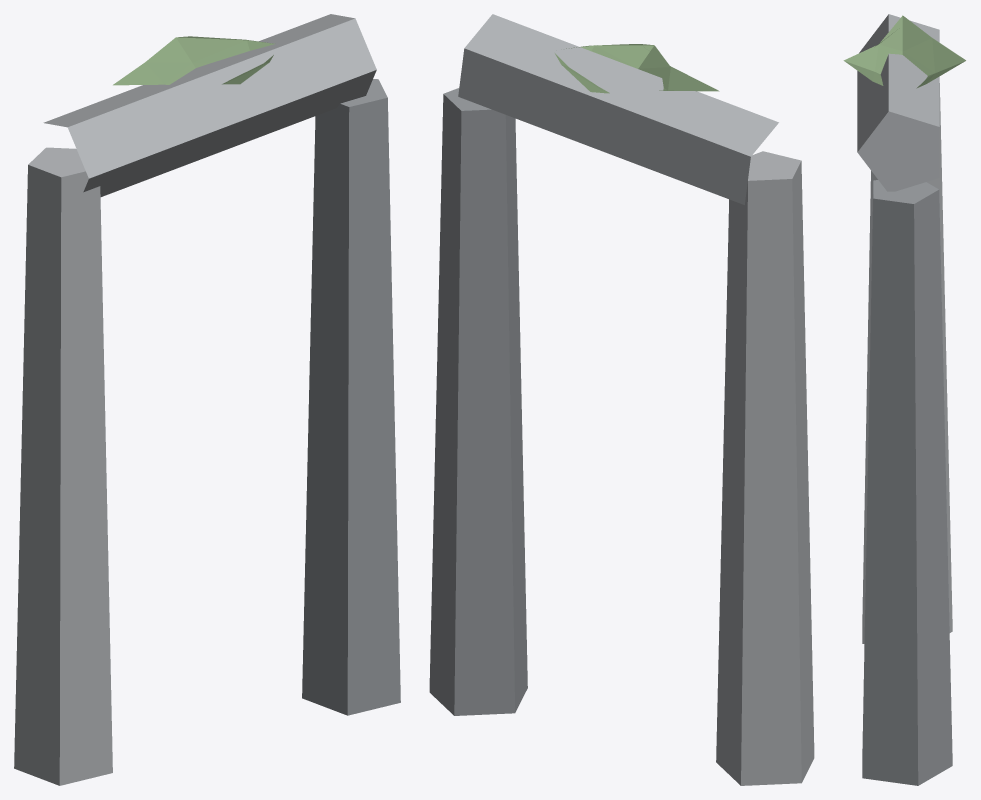
Rendered from arch_rock_v15.glb.
The picture shows the model from 3 angles, left to right: view 1: azimuth 30°, elevation 25°; view 2: azimuth 150°, elevation 25°; view 3: azimuth 270°, elevation 25°; orthographic projection. The views are drawn at different scales.
Parts seen in each view (by area): view 1: lod0; view 2: lod0; view 3: lod0.
Part boxes in pixels (x1,y1,x2,y2): lod0: [14, 14, 400, 785]; lod0: [429, 14, 814, 785]; lod0: [843, 14, 965, 785].
Size of what is drawn, in the model's own units: 1.82 by 3.21 by 0.5417.
